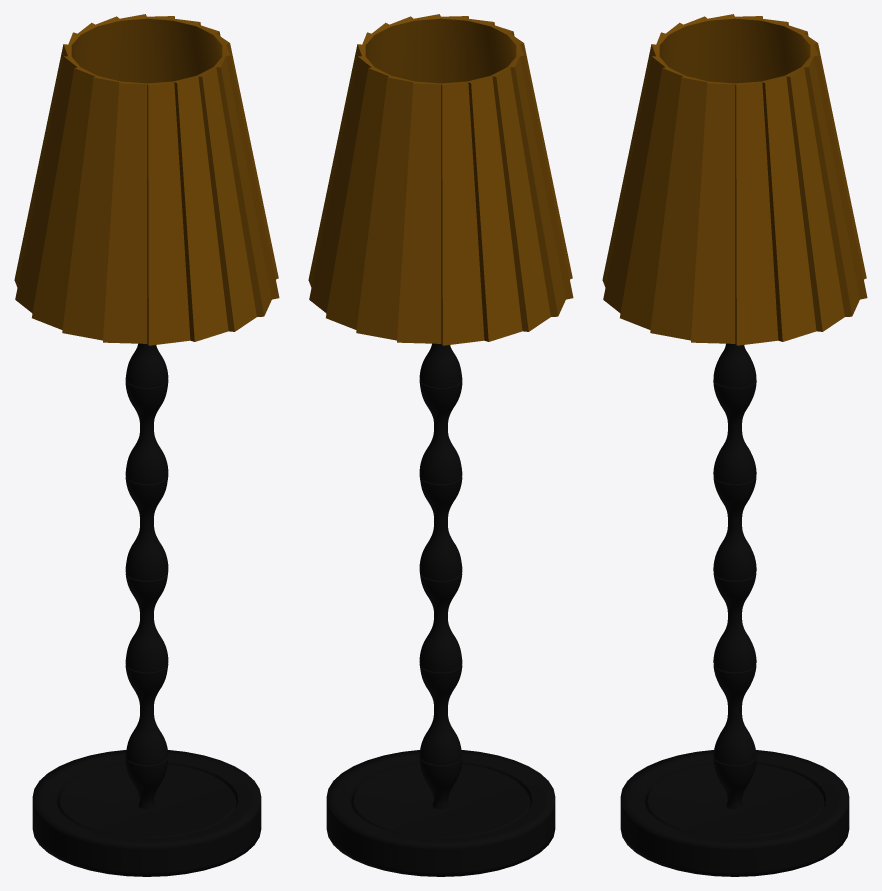
File: IKEA-Ekarp_Table_Lamp-3D.DAE
3 views of the same model, side by side, from view 1: azimuth 30°, elevation 25°; view 2: azimuth 150°, elevation 25°; view 3: azimuth 270°, elevation 25° (orthographic).
Visible parts, largest first — view 1: Cylinder02; view 2: Cylinder02; view 3: Cylinder02.
Part boxes in pixels (x1,y1,x2,y2): Cylinder02: [14, 14, 279, 876]; Cylinder02: [308, 14, 573, 876]; Cylinder02: [602, 14, 867, 876].
Size of the model in its own units: 152 by 487 by 150.
